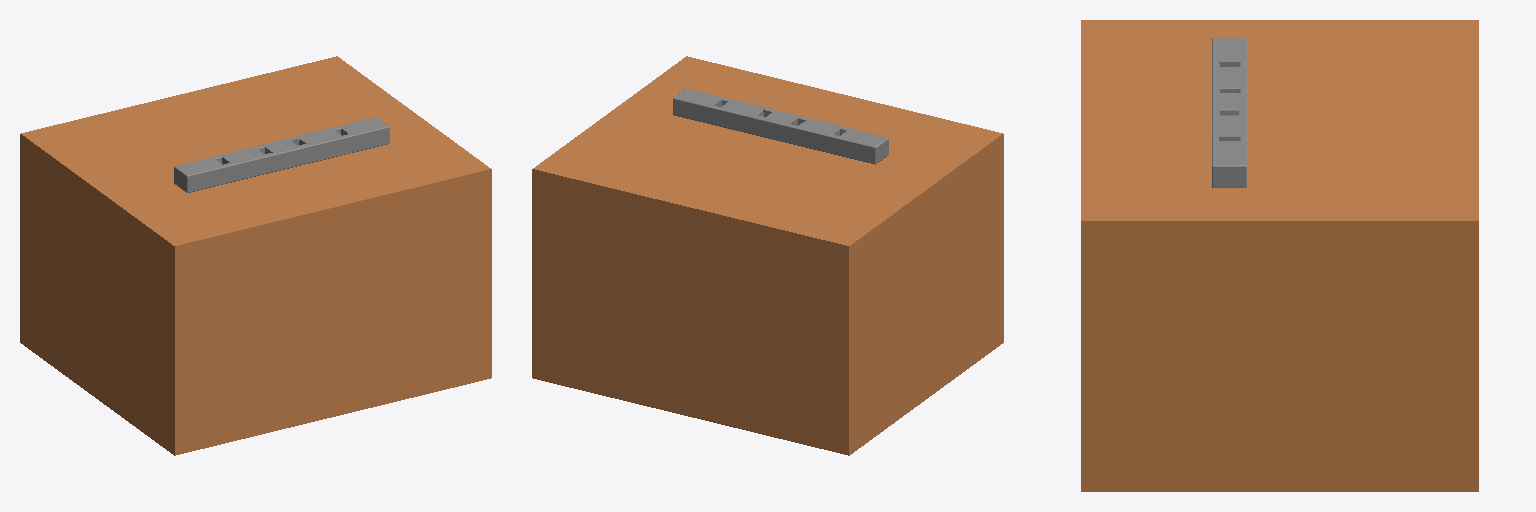
robot.urdf — table_beam_2x_2_scene_0000:
<?xml version="1.0"?>
<robot name="table_beam_2x_2_scene_0000">
  <link name="box">
    <visual>
      <material name="wood"><color rgba="0.82 0.56 0.35 1.0"/></material>
      <origin xyz="0 0 0"/>
      <geometry><box size="0.475 0.4 0.3"/></geometry>
    </visual>
    <collision>
      <origin xyz="0 0 0"/>
      <geometry><box size="0.475 0.4 0.3"/></geometry>
    </collision>
    <inertial>
      <mass value="500"/>
      <friction value="1.0"/>
      <inertia ixx="1000.0" ixy="0.0" ixz="0.0" iyy="1000.0" iyz="0.0" izz="1000.0"/>
    </inertial>
  </link>
  <link name="part_6_hull_0">
    <visual>
      <origin xyz="0 0 0" rpy="0 0 0"/>
      <geometry><mesh filename="../../6/coacd/decomp_0.obj" scale="1 1 1"/></geometry>
      <material name="placed_0"><color rgba="0.6 0.6 0.6 1.0"/></material>
    </visual>
    <collision>
      <origin xyz="0 0 0" rpy="0 0 0"/>
      <geometry><mesh filename="../../6/coacd/decomp_0.obj" scale="1 1 1"/></geometry>
    </collision>
  </link>
  <joint name="part_6_hull_0_joint" type="fixed">
    <parent link="box"/>
    <child link="part_6_hull_0"/>
    <origin xyz="0.009614 -0.050647 0.162666" rpy="0.000000 0.000000 0.000000"/>
  </joint>
  <link name="part_6_hull_1">
    <visual>
      <origin xyz="0 0 0" rpy="0 0 0"/>
      <geometry><mesh filename="../../6/coacd/decomp_1.obj" scale="1 1 1"/></geometry>
      <material name="placed_1"><color rgba="0.6 0.6 0.6 1.0"/></material>
    </visual>
    <collision>
      <origin xyz="0 0 0" rpy="0 0 0"/>
      <geometry><mesh filename="../../6/coacd/decomp_1.obj" scale="1 1 1"/></geometry>
    </collision>
  </link>
  <joint name="part_6_hull_1_joint" type="fixed">
    <parent link="box"/>
    <child link="part_6_hull_1"/>
    <origin xyz="0.009614 -0.050647 0.162666" rpy="0.000000 0.000000 0.000000"/>
  </joint>
  <link name="part_6_hull_2">
    <visual>
      <origin xyz="0 0 0" rpy="0 0 0"/>
      <geometry><mesh filename="../../6/coacd/decomp_10.obj" scale="1 1 1"/></geometry>
      <material name="placed_2"><color rgba="0.6 0.6 0.6 1.0"/></material>
    </visual>
    <collision>
      <origin xyz="0 0 0" rpy="0 0 0"/>
      <geometry><mesh filename="../../6/coacd/decomp_10.obj" scale="1 1 1"/></geometry>
    </collision>
  </link>
  <joint name="part_6_hull_2_joint" type="fixed">
    <parent link="box"/>
    <child link="part_6_hull_2"/>
    <origin xyz="0.009614 -0.050647 0.162666" rpy="0.000000 0.000000 0.000000"/>
  </joint>
  <link name="part_6_hull_3">
    <visual>
      <origin xyz="0 0 0" rpy="0 0 0"/>
      <geometry><mesh filename="../../6/coacd/decomp_11.obj" scale="1 1 1"/></geometry>
      <material name="placed_3"><color rgba="0.6 0.6 0.6 1.0"/></material>
    </visual>
    <collision>
      <origin xyz="0 0 0" rpy="0 0 0"/>
      <geometry><mesh filename="../../6/coacd/decomp_11.obj" scale="1 1 1"/></geometry>
    </collision>
  </link>
  <joint name="part_6_hull_3_joint" type="fixed">
    <parent link="box"/>
    <child link="part_6_hull_3"/>
    <origin xyz="0.009614 -0.050647 0.162666" rpy="0.000000 0.000000 0.000000"/>
  </joint>
  <link name="part_6_hull_4">
    <visual>
      <origin xyz="0 0 0" rpy="0 0 0"/>
      <geometry><mesh filename="../../6/coacd/decomp_12.obj" scale="1 1 1"/></geometry>
      <material name="placed_4"><color rgba="0.6 0.6 0.6 1.0"/></material>
    </visual>
    <collision>
      <origin xyz="0 0 0" rpy="0 0 0"/>
      <geometry><mesh filename="../../6/coacd/decomp_12.obj" scale="1 1 1"/></geometry>
    </collision>
  </link>
  <joint name="part_6_hull_4_joint" type="fixed">
    <parent link="box"/>
    <child link="part_6_hull_4"/>
    <origin xyz="0.009614 -0.050647 0.162666" rpy="0.000000 0.000000 0.000000"/>
  </joint>
  <link name="part_6_hull_5">
    <visual>
      <origin xyz="0 0 0" rpy="0 0 0"/>
      <geometry><mesh filename="../../6/coacd/decomp_13.obj" scale="1 1 1"/></geometry>
      <material name="placed_5"><color rgba="0.6 0.6 0.6 1.0"/></material>
    </visual>
    <collision>
      <origin xyz="0 0 0" rpy="0 0 0"/>
      <geometry><mesh filename="../../6/coacd/decomp_13.obj" scale="1 1 1"/></geometry>
    </collision>
  </link>
  <joint name="part_6_hull_5_joint" type="fixed">
    <parent link="box"/>
    <child link="part_6_hull_5"/>
    <origin xyz="0.009614 -0.050647 0.162666" rpy="0.000000 0.000000 0.000000"/>
  </joint>
  <link name="part_6_hull_6">
    <visual>
      <origin xyz="0 0 0" rpy="0 0 0"/>
      <geometry><mesh filename="../../6/coacd/decomp_2.obj" scale="1 1 1"/></geometry>
      <material name="placed_6"><color rgba="0.6 0.6 0.6 1.0"/></material>
    </visual>
    <collision>
      <origin xyz="0 0 0" rpy="0 0 0"/>
      <geometry><mesh filename="../../6/coacd/decomp_2.obj" scale="1 1 1"/></geometry>
    </collision>
  </link>
  <joint name="part_6_hull_6_joint" type="fixed">
    <parent link="box"/>
    <child link="part_6_hull_6"/>
    <origin xyz="0.009614 -0.050647 0.162666" rpy="0.000000 0.000000 0.000000"/>
  </joint>
  <link name="part_6_hull_7">
    <visual>
      <origin xyz="0 0 0" rpy="0 0 0"/>
      <geometry><mesh filename="../../6/coacd/decomp_3.obj" scale="1 1 1"/></geometry>
      <material name="placed_7"><color rgba="0.6 0.6 0.6 1.0"/></material>
    </visual>
    <collision>
      <origin xyz="0 0 0" rpy="0 0 0"/>
      <geometry><mesh filename="../../6/coacd/decomp_3.obj" scale="1 1 1"/></geometry>
    </collision>
  </link>
  <joint name="part_6_hull_7_joint" type="fixed">
    <parent link="box"/>
    <child link="part_6_hull_7"/>
    <origin xyz="0.009614 -0.050647 0.162666" rpy="0.000000 0.000000 0.000000"/>
  </joint>
  <link name="part_6_hull_8">
    <visual>
      <origin xyz="0 0 0" rpy="0 0 0"/>
      <geometry><mesh filename="../../6/coacd/decomp_4.obj" scale="1 1 1"/></geometry>
      <material name="placed_8"><color rgba="0.6 0.6 0.6 1.0"/></material>
    </visual>
    <collision>
      <origin xyz="0 0 0" rpy="0 0 0"/>
      <geometry><mesh filename="../../6/coacd/decomp_4.obj" scale="1 1 1"/></geometry>
    </collision>
  </link>
  <joint name="part_6_hull_8_joint" type="fixed">
    <parent link="box"/>
    <child link="part_6_hull_8"/>
    <origin xyz="0.009614 -0.050647 0.162666" rpy="0.000000 0.000000 0.000000"/>
  </joint>
  <link name="part_6_hull_9">
    <visual>
      <origin xyz="0 0 0" rpy="0 0 0"/>
      <geometry><mesh filename="../../6/coacd/decomp_5.obj" scale="1 1 1"/></geometry>
      <material name="placed_9"><color rgba="0.6 0.6 0.6 1.0"/></material>
    </visual>
    <collision>
      <origin xyz="0 0 0" rpy="0 0 0"/>
      <geometry><mesh filename="../../6/coacd/decomp_5.obj" scale="1 1 1"/></geometry>
    </collision>
  </link>
  <joint name="part_6_hull_9_joint" type="fixed">
    <parent link="box"/>
    <child link="part_6_hull_9"/>
    <origin xyz="0.009614 -0.050647 0.162666" rpy="0.000000 0.000000 0.000000"/>
  </joint>
  <link name="part_6_hull_10">
    <visual>
      <origin xyz="0 0 0" rpy="0 0 0"/>
      <geometry><mesh filename="../../6/coacd/decomp_6.obj" scale="1 1 1"/></geometry>
      <material name="placed_10"><color rgba="0.6 0.6 0.6 1.0"/></material>
    </visual>
    <collision>
      <origin xyz="0 0 0" rpy="0 0 0"/>
      <geometry><mesh filename="../../6/coacd/decomp_6.obj" scale="1 1 1"/></geometry>
    </collision>
  </link>
  <joint name="part_6_hull_10_joint" type="fixed">
    <parent link="box"/>
    <child link="part_6_hull_10"/>
    <origin xyz="0.009614 -0.050647 0.162666" rpy="0.000000 0.000000 0.000000"/>
  </joint>
  <link name="part_6_hull_11">
    <visual>
      <origin xyz="0 0 0" rpy="0 0 0"/>
      <geometry><mesh filename="../../6/coacd/decomp_7.obj" scale="1 1 1"/></geometry>
      <material name="placed_11"><color rgba="0.6 0.6 0.6 1.0"/></material>
    </visual>
    <collision>
      <origin xyz="0 0 0" rpy="0 0 0"/>
      <geometry><mesh filename="../../6/coacd/decomp_7.obj" scale="1 1 1"/></geometry>
    </collision>
  </link>
  <joint name="part_6_hull_11_joint" type="fixed">
    <parent link="box"/>
    <child link="part_6_hull_11"/>
    <origin xyz="0.009614 -0.050647 0.162666" rpy="0.000000 0.000000 0.000000"/>
  </joint>
  <link name="part_6_hull_12">
    <visual>
      <origin xyz="0 0 0" rpy="0 0 0"/>
      <geometry><mesh filename="../../6/coacd/decomp_8.obj" scale="1 1 1"/></geometry>
      <material name="placed_12"><color rgba="0.6 0.6 0.6 1.0"/></material>
    </visual>
    <collision>
      <origin xyz="0 0 0" rpy="0 0 0"/>
      <geometry><mesh filename="../../6/coacd/decomp_8.obj" scale="1 1 1"/></geometry>
    </collision>
  </link>
  <joint name="part_6_hull_12_joint" type="fixed">
    <parent link="box"/>
    <child link="part_6_hull_12"/>
    <origin xyz="0.009614 -0.050647 0.162666" rpy="0.000000 0.000000 0.000000"/>
  </joint>
  <link name="part_6_hull_13">
    <visual>
      <origin xyz="0 0 0" rpy="0 0 0"/>
      <geometry><mesh filename="../../6/coacd/decomp_9.obj" scale="1 1 1"/></geometry>
      <material name="placed_13"><color rgba="0.6 0.6 0.6 1.0"/></material>
    </visual>
    <collision>
      <origin xyz="0 0 0" rpy="0 0 0"/>
      <geometry><mesh filename="../../6/coacd/decomp_9.obj" scale="1 1 1"/></geometry>
    </collision>
  </link>
  <joint name="part_6_hull_13_joint" type="fixed">
    <parent link="box"/>
    <child link="part_6_hull_13"/>
    <origin xyz="0.009614 -0.050647 0.162666" rpy="0.000000 0.000000 0.000000"/>
  </joint>
</robot>

--- Facts derived from the render (not from the file) ---
3 views of the same robot in one strip: view 1: azimuth 30°, elevation 25°; view 2: azimuth 150°, elevation 25°; view 3: azimuth 270°, elevation 25° (orthographic).
Model table_beam_2x_2_scene_0000 with 15 links and 14 joints (14 fixed), rooted at box, posed all joints at 0.
Links seen in each view (by area): view 1: box, part_6_hull_1, part_6_hull_0, part_6_hull_9, part_6_hull_5, part_6_hull_3; view 2: box, part_6_hull_1, part_6_hull_0, part_6_hull_2, part_6_hull_5, part_6_hull_12; view 3: box, part_6_hull_0, part_6_hull_1, part_6_hull_2, part_6_hull_5.
Link boxes in pixels (bbox=[...]): box: bbox=[20, 56, 491, 455]; part_6_hull_1: bbox=[174, 157, 225, 192]; part_6_hull_0: bbox=[339, 117, 389, 152]; part_6_hull_9: bbox=[224, 153, 274, 183]; part_6_hull_5: bbox=[304, 128, 344, 160]; part_6_hull_3: bbox=[276, 142, 317, 170]; box: bbox=[532, 56, 1003, 455]; part_6_hull_1: bbox=[837, 128, 888, 164]; part_6_hull_0: bbox=[673, 88, 723, 124]; part_6_hull_2: bbox=[795, 120, 839, 152]; part_6_hull_5: bbox=[718, 100, 757, 132]; part_6_hull_12: bbox=[745, 113, 786, 141]; box: bbox=[1081, 20, 1478, 491]; part_6_hull_0: bbox=[1212, 141, 1246, 187]; part_6_hull_1: bbox=[1212, 38, 1246, 66]; part_6_hull_2: bbox=[1220, 66, 1246, 92]; part_6_hull_5: bbox=[1212, 120, 1246, 140].
Size in the robot's own frame: 0.475 by 0.4 by 0.3254 metres.
Meshes: 14 distinct files referenced, 14 mesh visuals loaded (14 OBJ).
